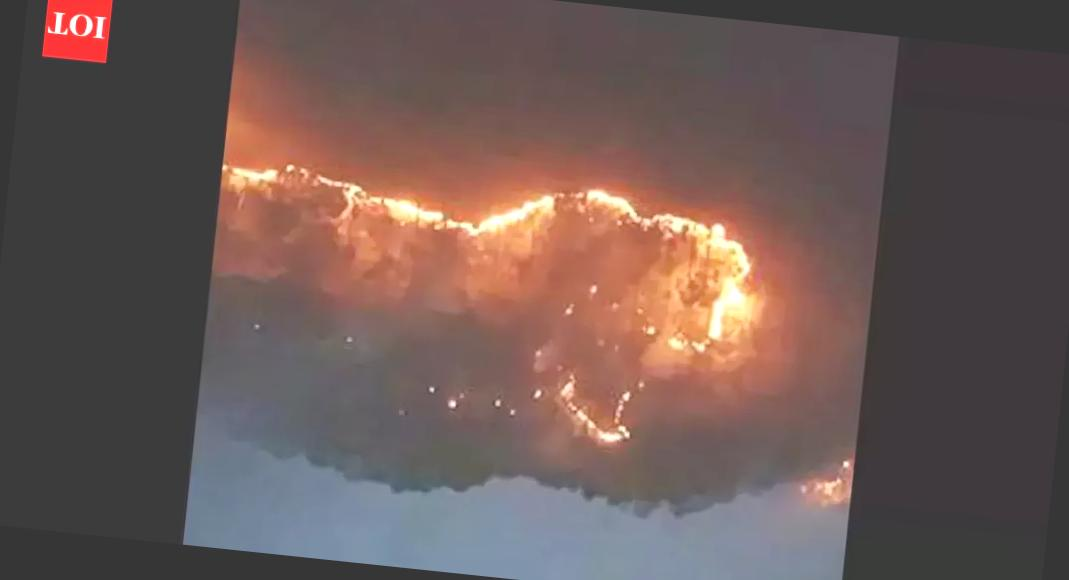fire: (410, 183, 560, 239), (654, 200, 753, 255), (322, 168, 414, 225), (698, 272, 752, 342), (580, 176, 643, 232), (571, 419, 644, 462), (234, 151, 310, 192)
